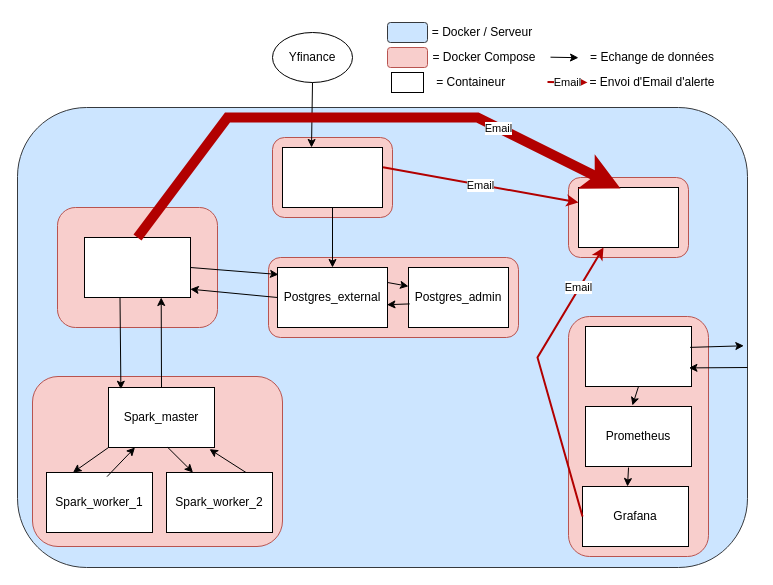
Image size: 773x585. Some labels were removed from this diagram. Each missing label, with the box of its shape:
Airflow (9 containeurs): (84, 236, 190, 298)
Docker_exporter: (584, 326, 692, 386)
Ingestion: (282, 146, 382, 208)
Mailhog: (578, 186, 678, 248)
